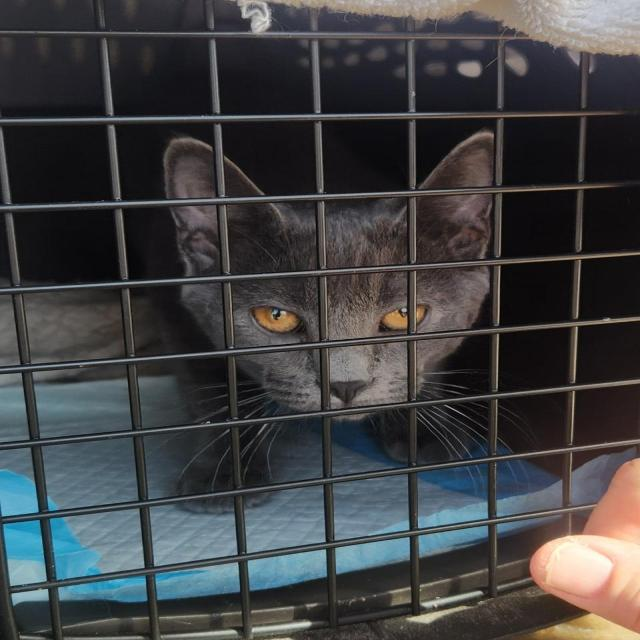russian_blue_cat: (140, 115, 521, 427)
